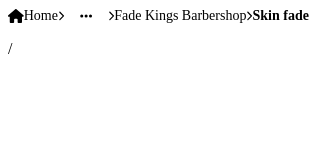
it: Breadcrumbs › opens the popover, lists hidden crumbs as links, closes on Escape and returns focus
Click the button named "hidden": (86,16) [64,9,108,23]
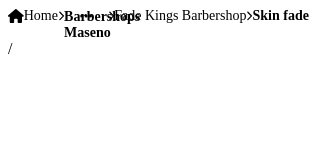
Expected: the button named "hidden" is expanded, [64,9,108,23]
Press Escape
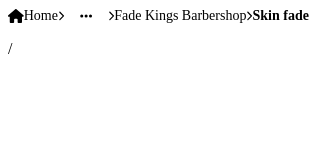
Expected: the button named "hidden" is collapsed, [64,9,108,23]
Expected: the link "Maseno" is gone
